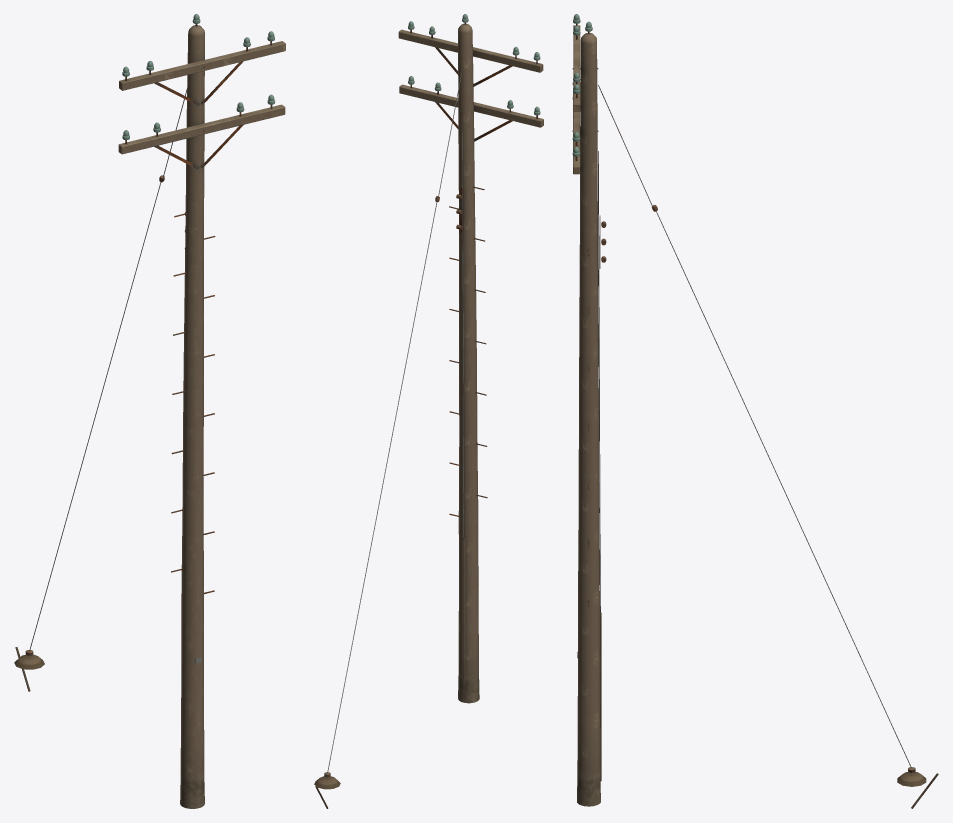
Rendered from utility_pole_guyed.glb.
The picture shows the model from 3 angles, left to right: view 1: azimuth 30°, elevation 25°; view 2: azimuth 150°, elevation 25°; view 3: azimuth 270°, elevation 25°; orthographic projection. The views are drawn at different scales.
Visible parts, largest first — view 1: utility_pole_guyed; view 2: utility_pole_guyed; view 3: utility_pole_guyed.
Part boxes in pixels (x1,y1,x2,y2): utility_pole_guyed: (14, 14, 285, 808); utility_pole_guyed: (314, 14, 543, 808); utility_pole_guyed: (572, 14, 938, 808).
Bounding box in the file's own units: 2.45 × 11.32 × 4.77.
Materials: 4 (4 with a texture image).
